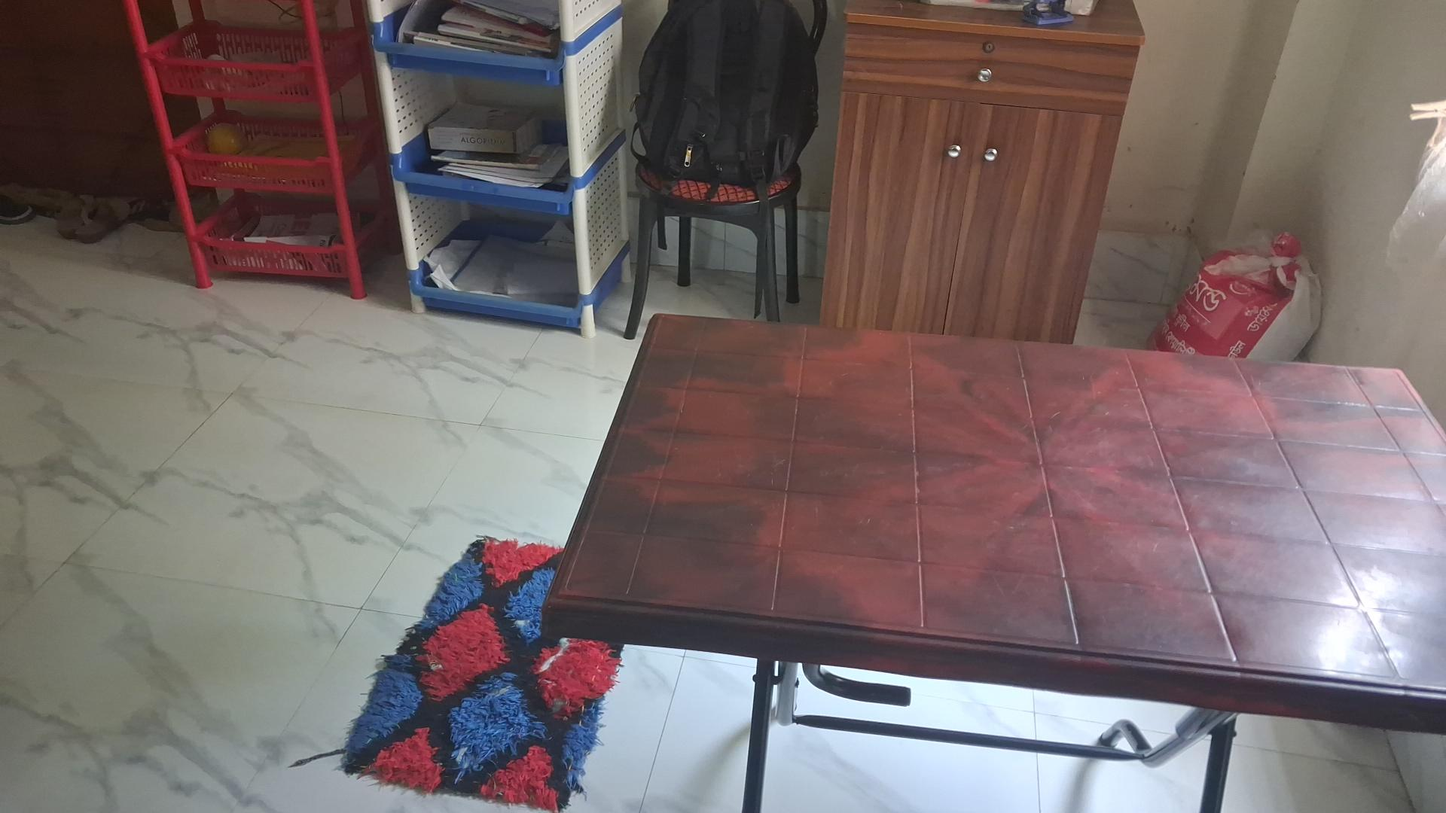Bag: (629, 0, 821, 175), (1163, 229, 1326, 376)
Book: (426, 101, 542, 156)
Chair: (622, 174, 802, 339)
Floor Mat: (340, 531, 627, 807)
Rack: (372, 0, 625, 344), (123, 1, 398, 299)
Table: (546, 308, 1446, 813)
